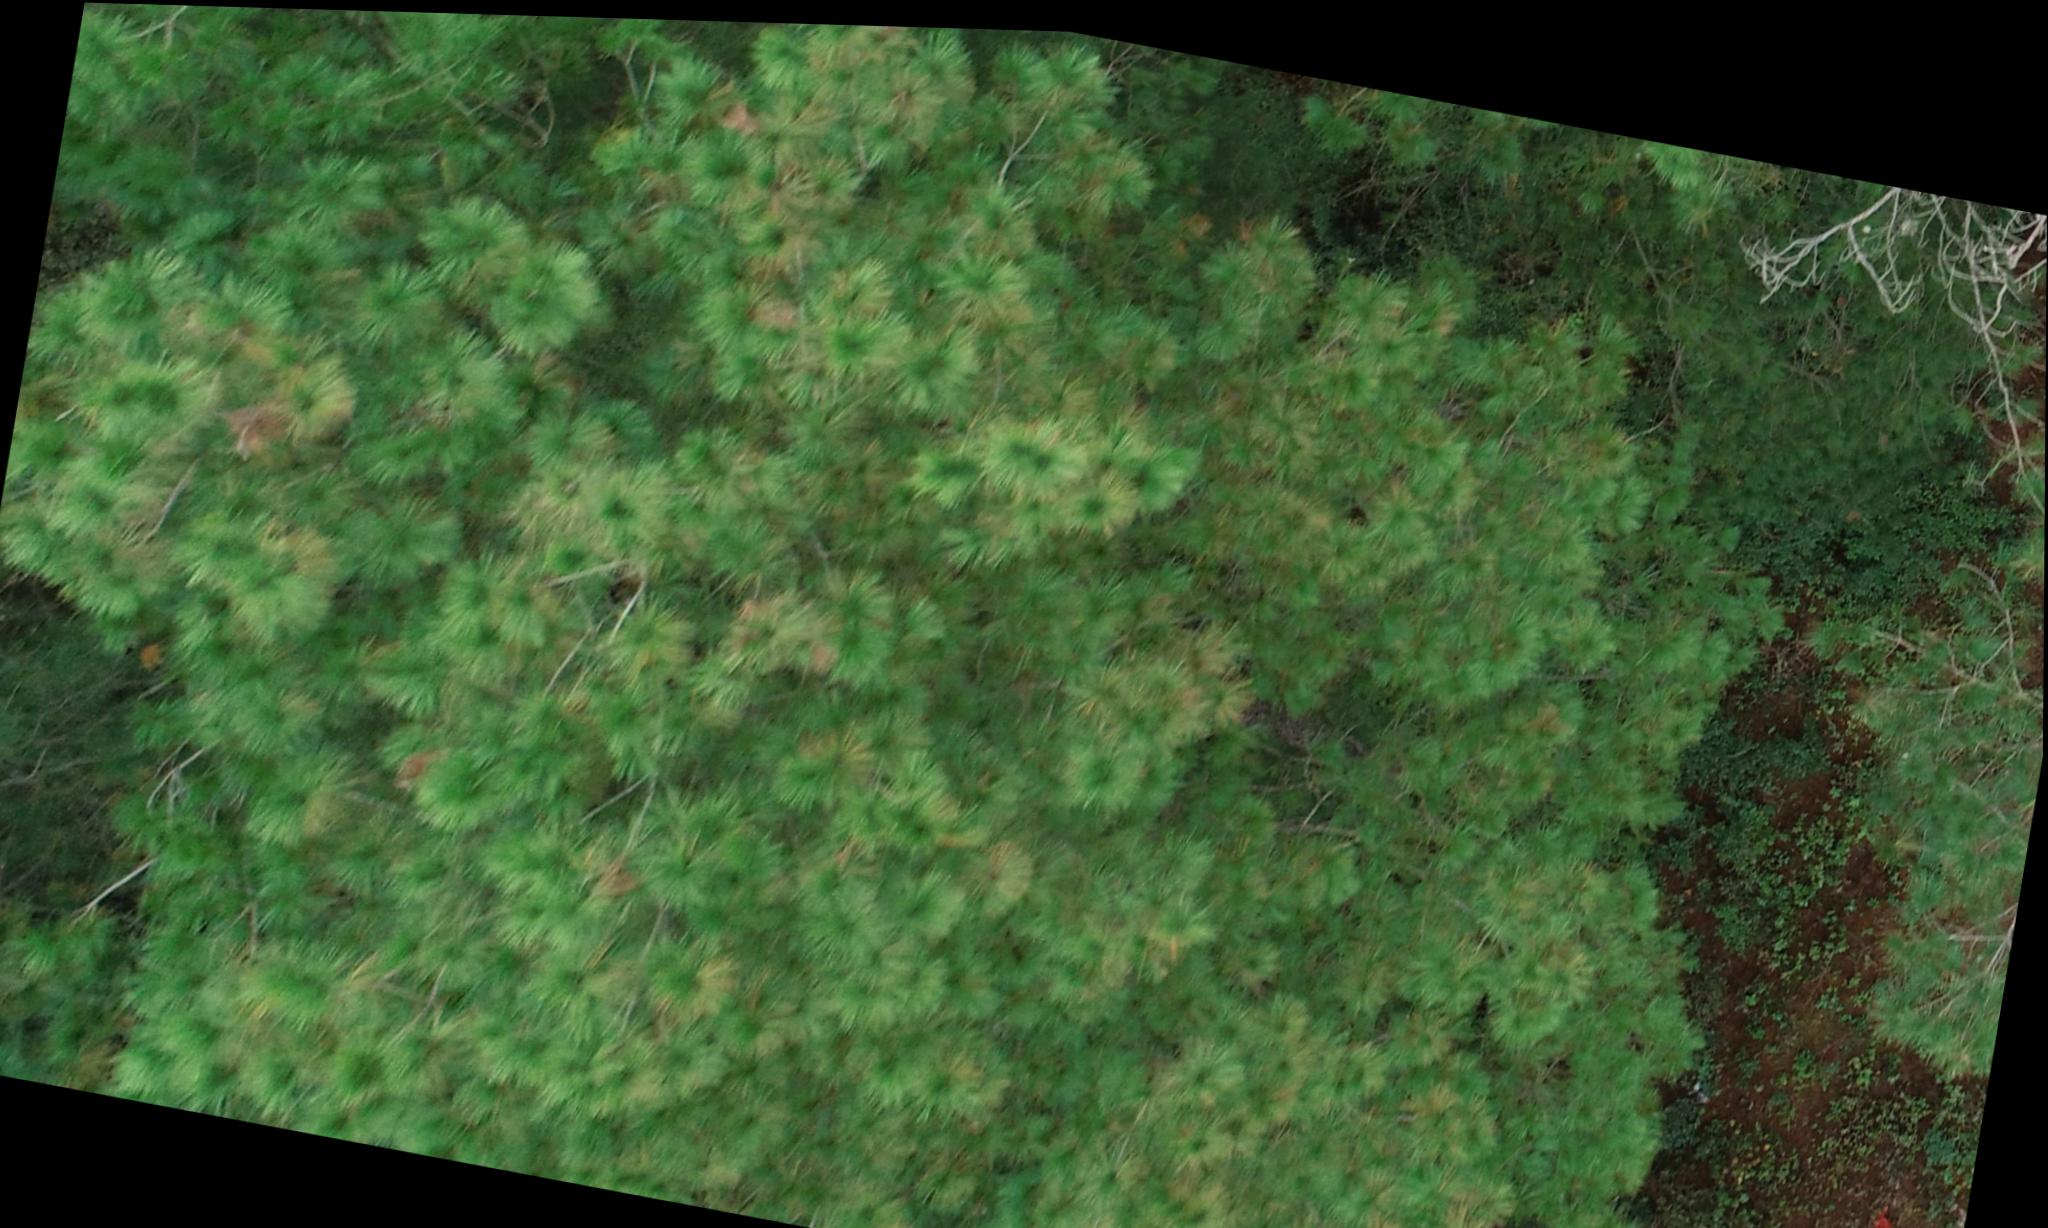light: (0, 0, 1837, 1228)
